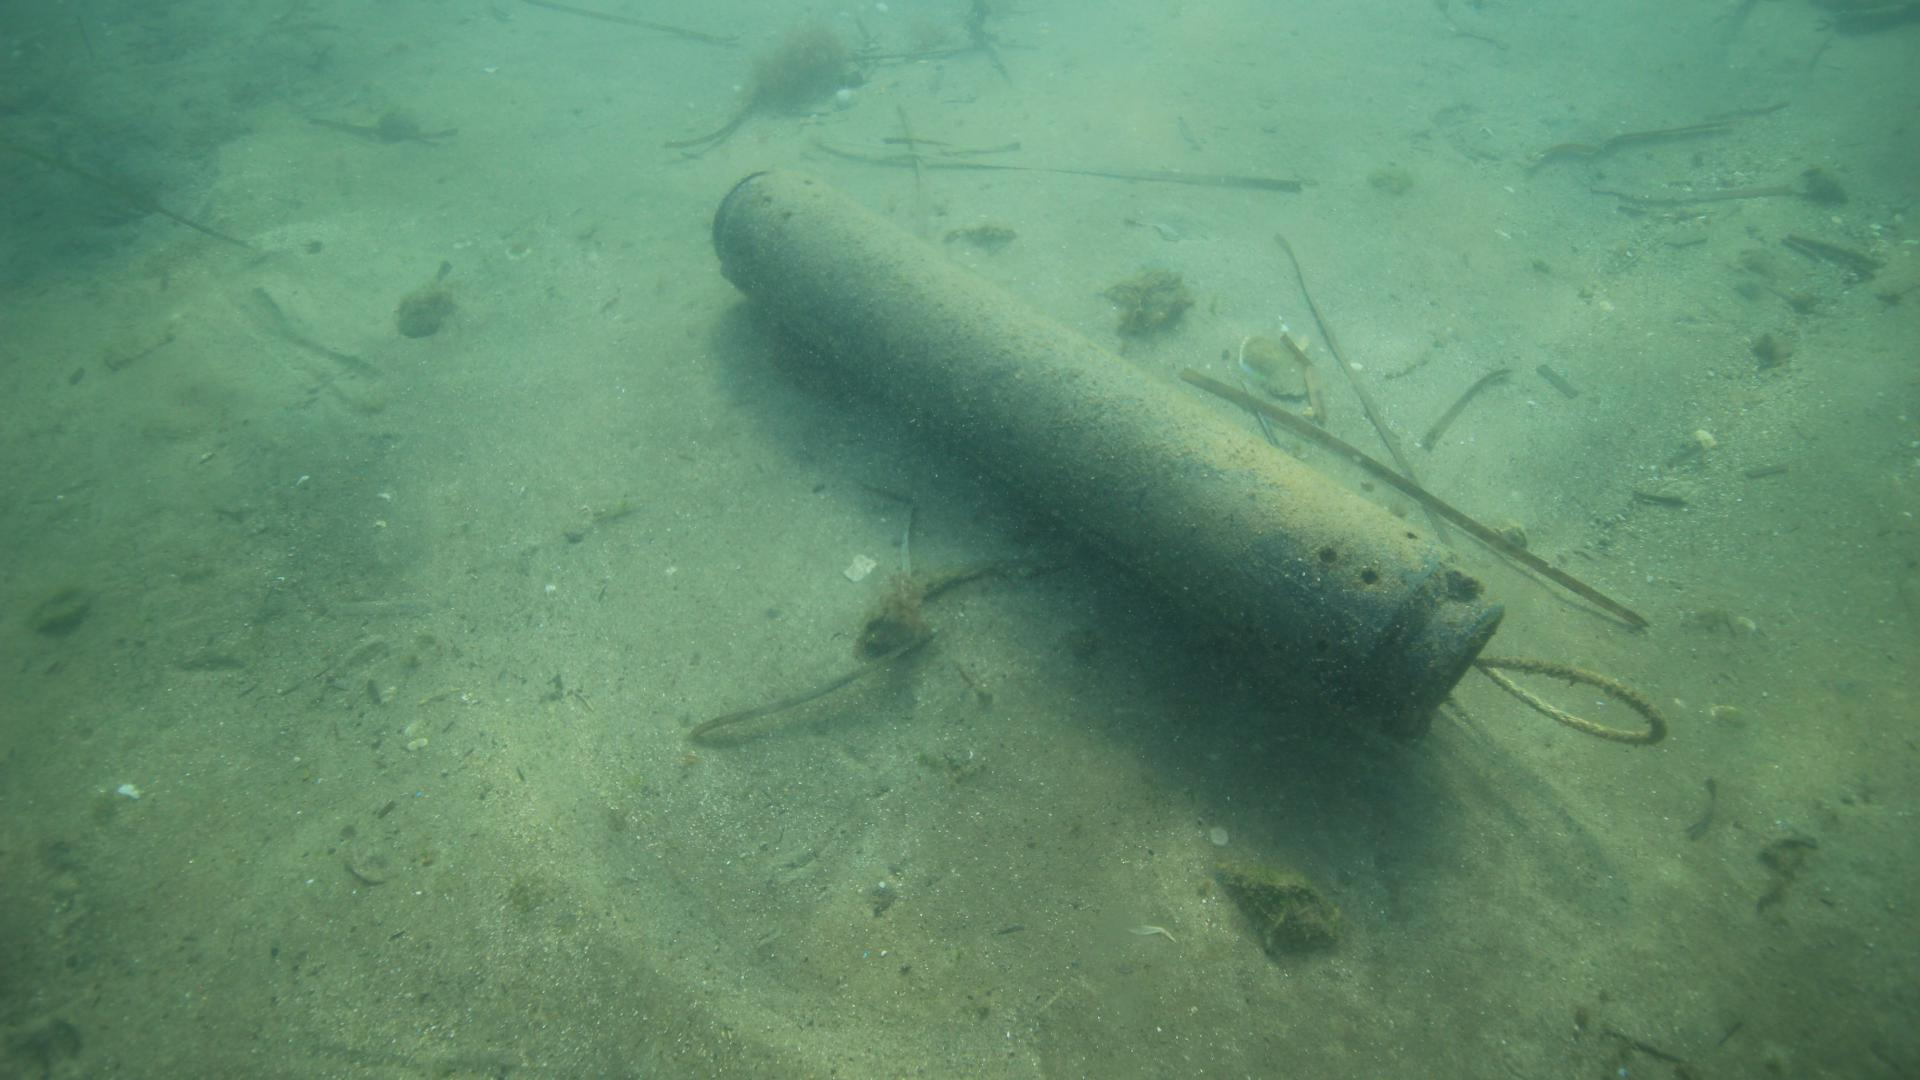eel fish trap: (708, 164, 1506, 729)
rope: (1473, 655, 1672, 746)
